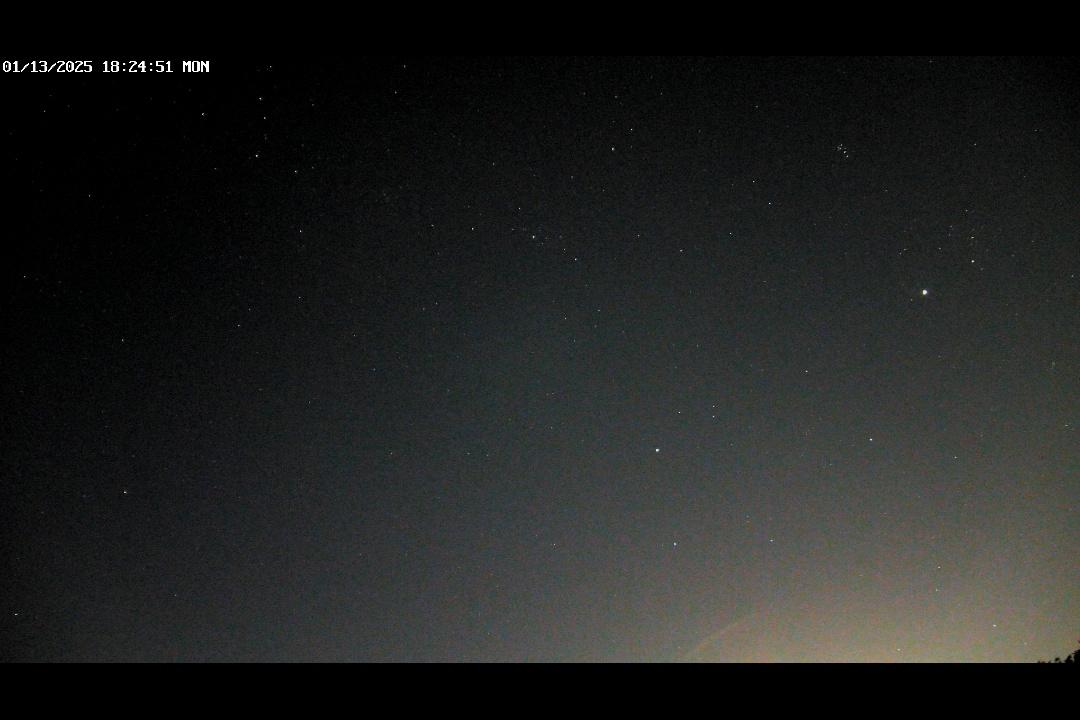Plane: (1046, 350, 1060, 392)
